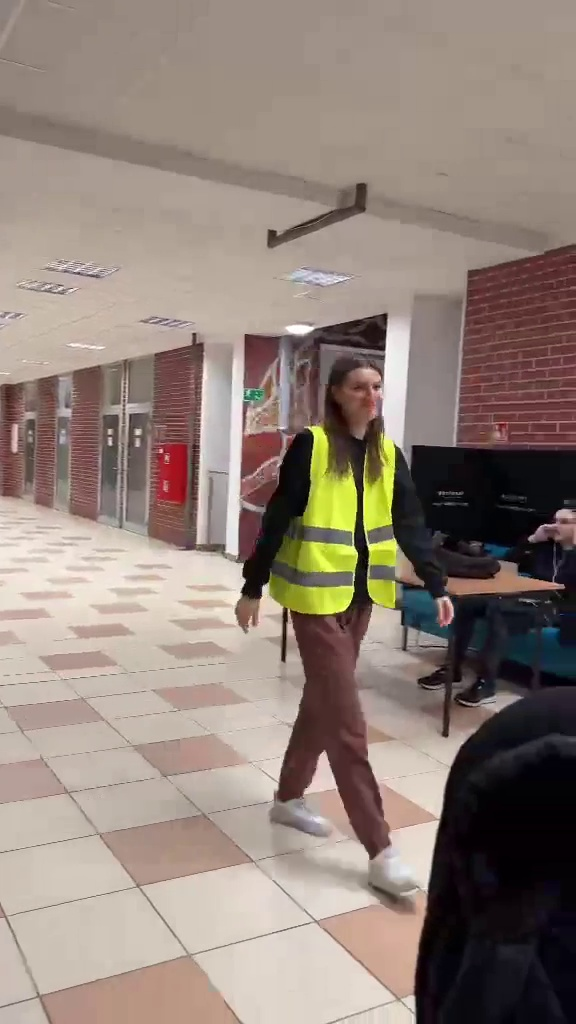no vest: (422, 505, 576, 708)
vest: (244, 348, 456, 907)
